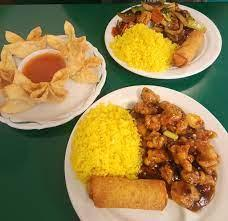Braised Crucian Carp: (63, 84, 227, 220), (0, 34, 106, 129), (103, 2, 221, 79)
